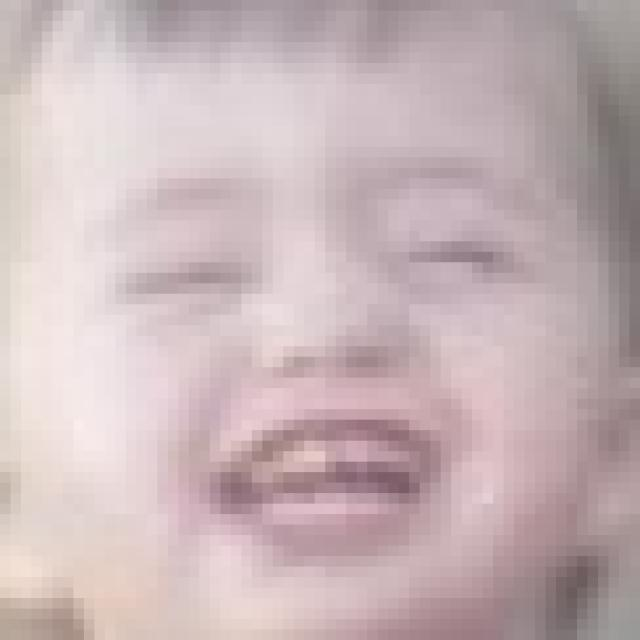Eyeclosed: (394, 230, 502, 278), (130, 258, 244, 302)
